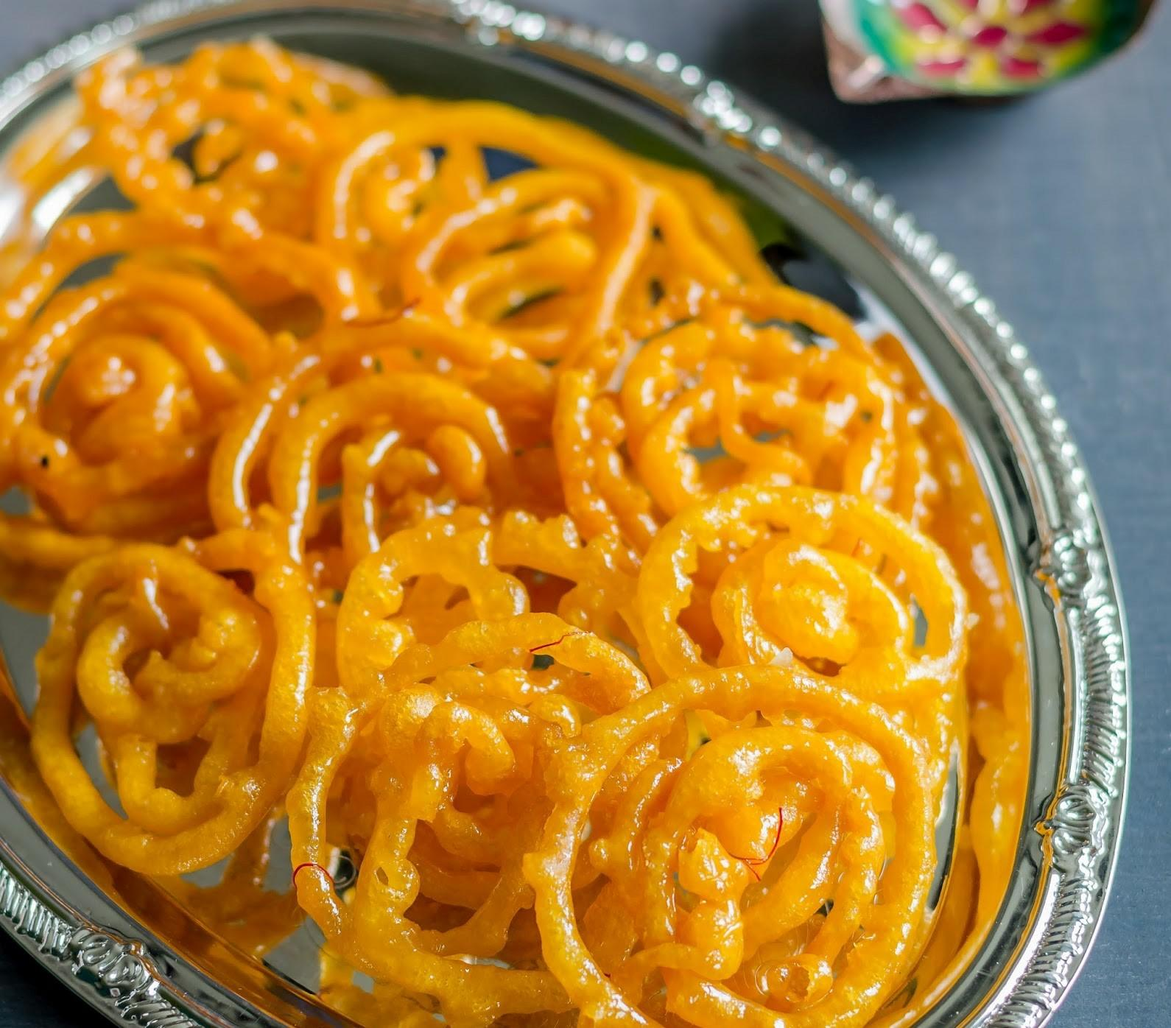Jalebi: (1, 23, 980, 1028)
